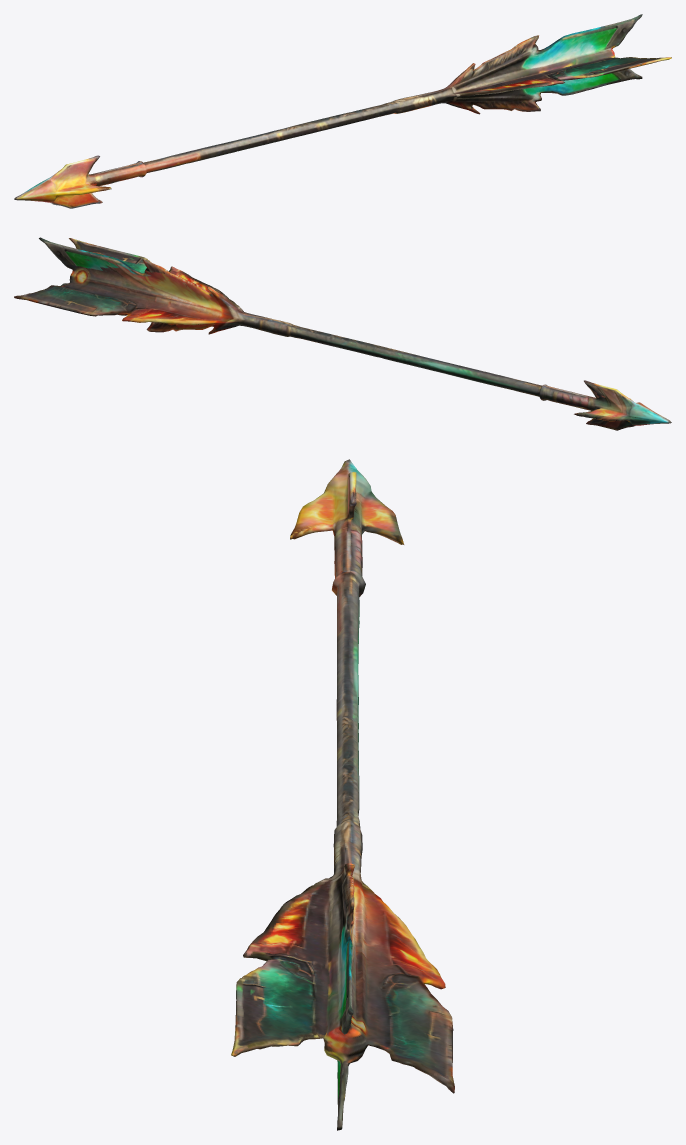
Rendered from Projectile_fantaisiqu_0611131308_texture.fbx.
The picture shows the model from 3 angles, top to bottom: view 1: azimuth 30°, elevation 25°; view 2: azimuth 150°, elevation 25°; view 3: azimuth 270°, elevation 25°; orthographic projection. The views are drawn at different scales.
Parts seen in each view (by area): view 1: Mesh1; view 2: Mesh1; view 3: Mesh1.
Part boxes in pixels (bbox=[...]): Mesh1: bbox=[14, 14, 671, 208]; Mesh1: bbox=[14, 237, 671, 430]; Mesh1: bbox=[231, 459, 454, 1130].
Size of the model in its own units: 201 by 22.38 by 30.92.
1 material, 1 textured.
